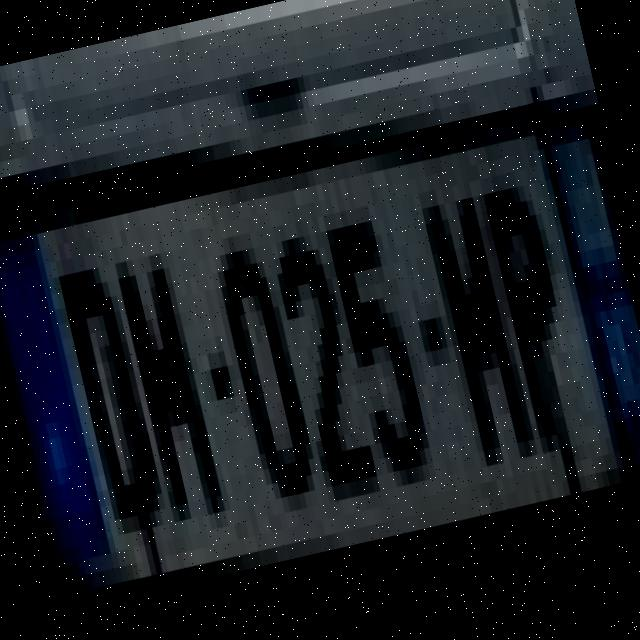EU: (0, 103, 640, 600)
France: (0, 232, 106, 570)
